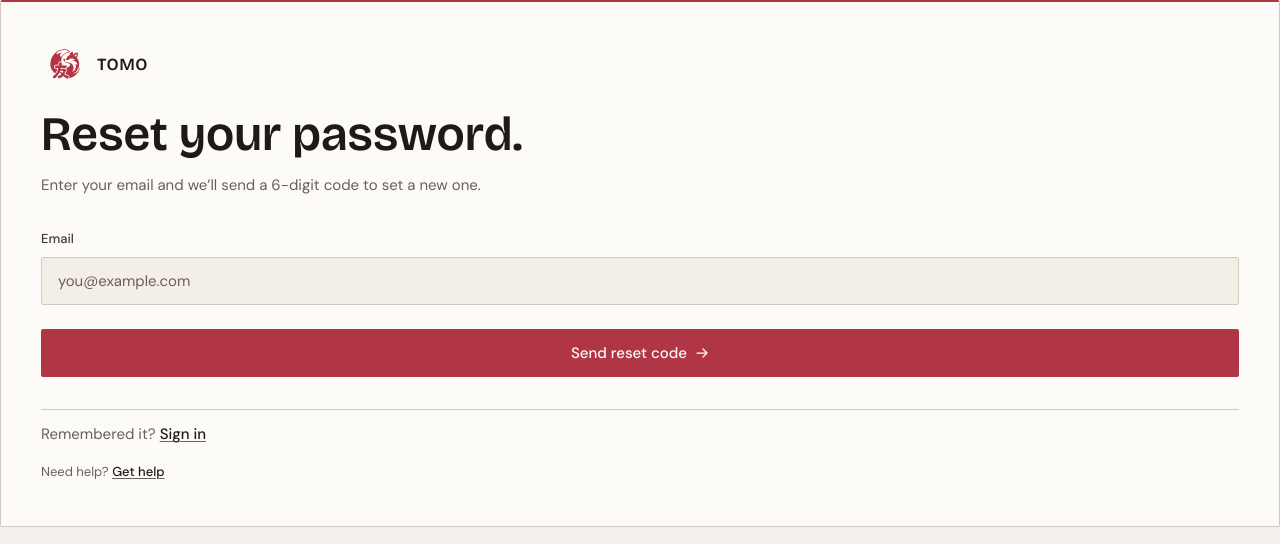
Test: forgotPasswordPage › request view › advances to the verify view on success
This screenshot has width=1280, height=544.
In the field labelled "Email": (640, 281) [41, 257, 1239, 305], type "user@example.com"
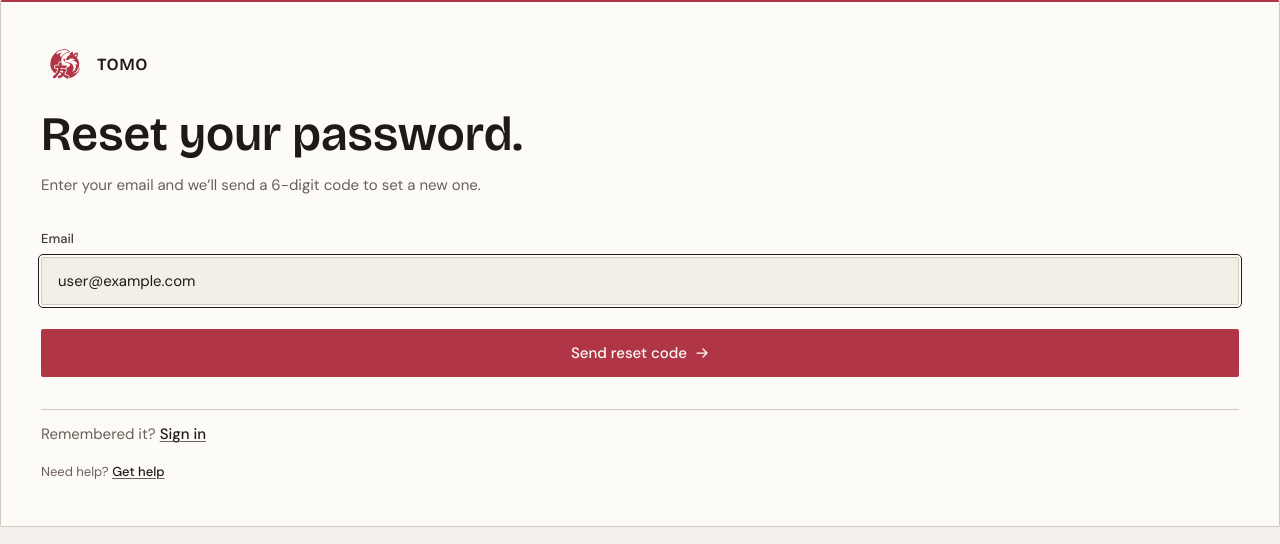
Click the button "Send reset code": (640, 353) [41, 329, 1239, 377]
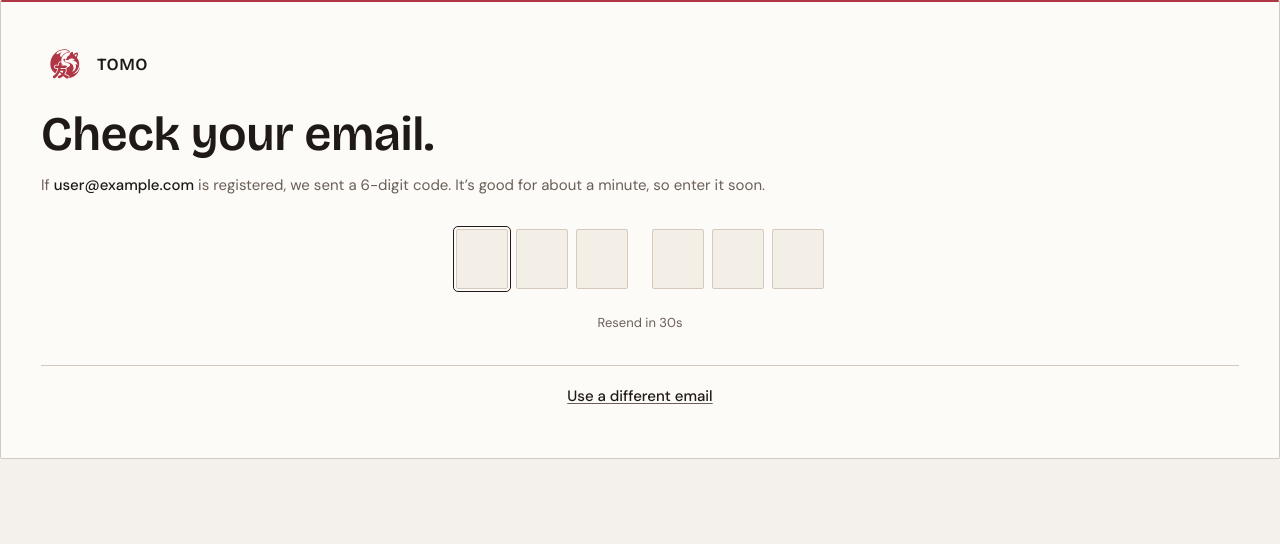
Result: the heading "Check your email." is shown at [41, 105, 434, 163]
